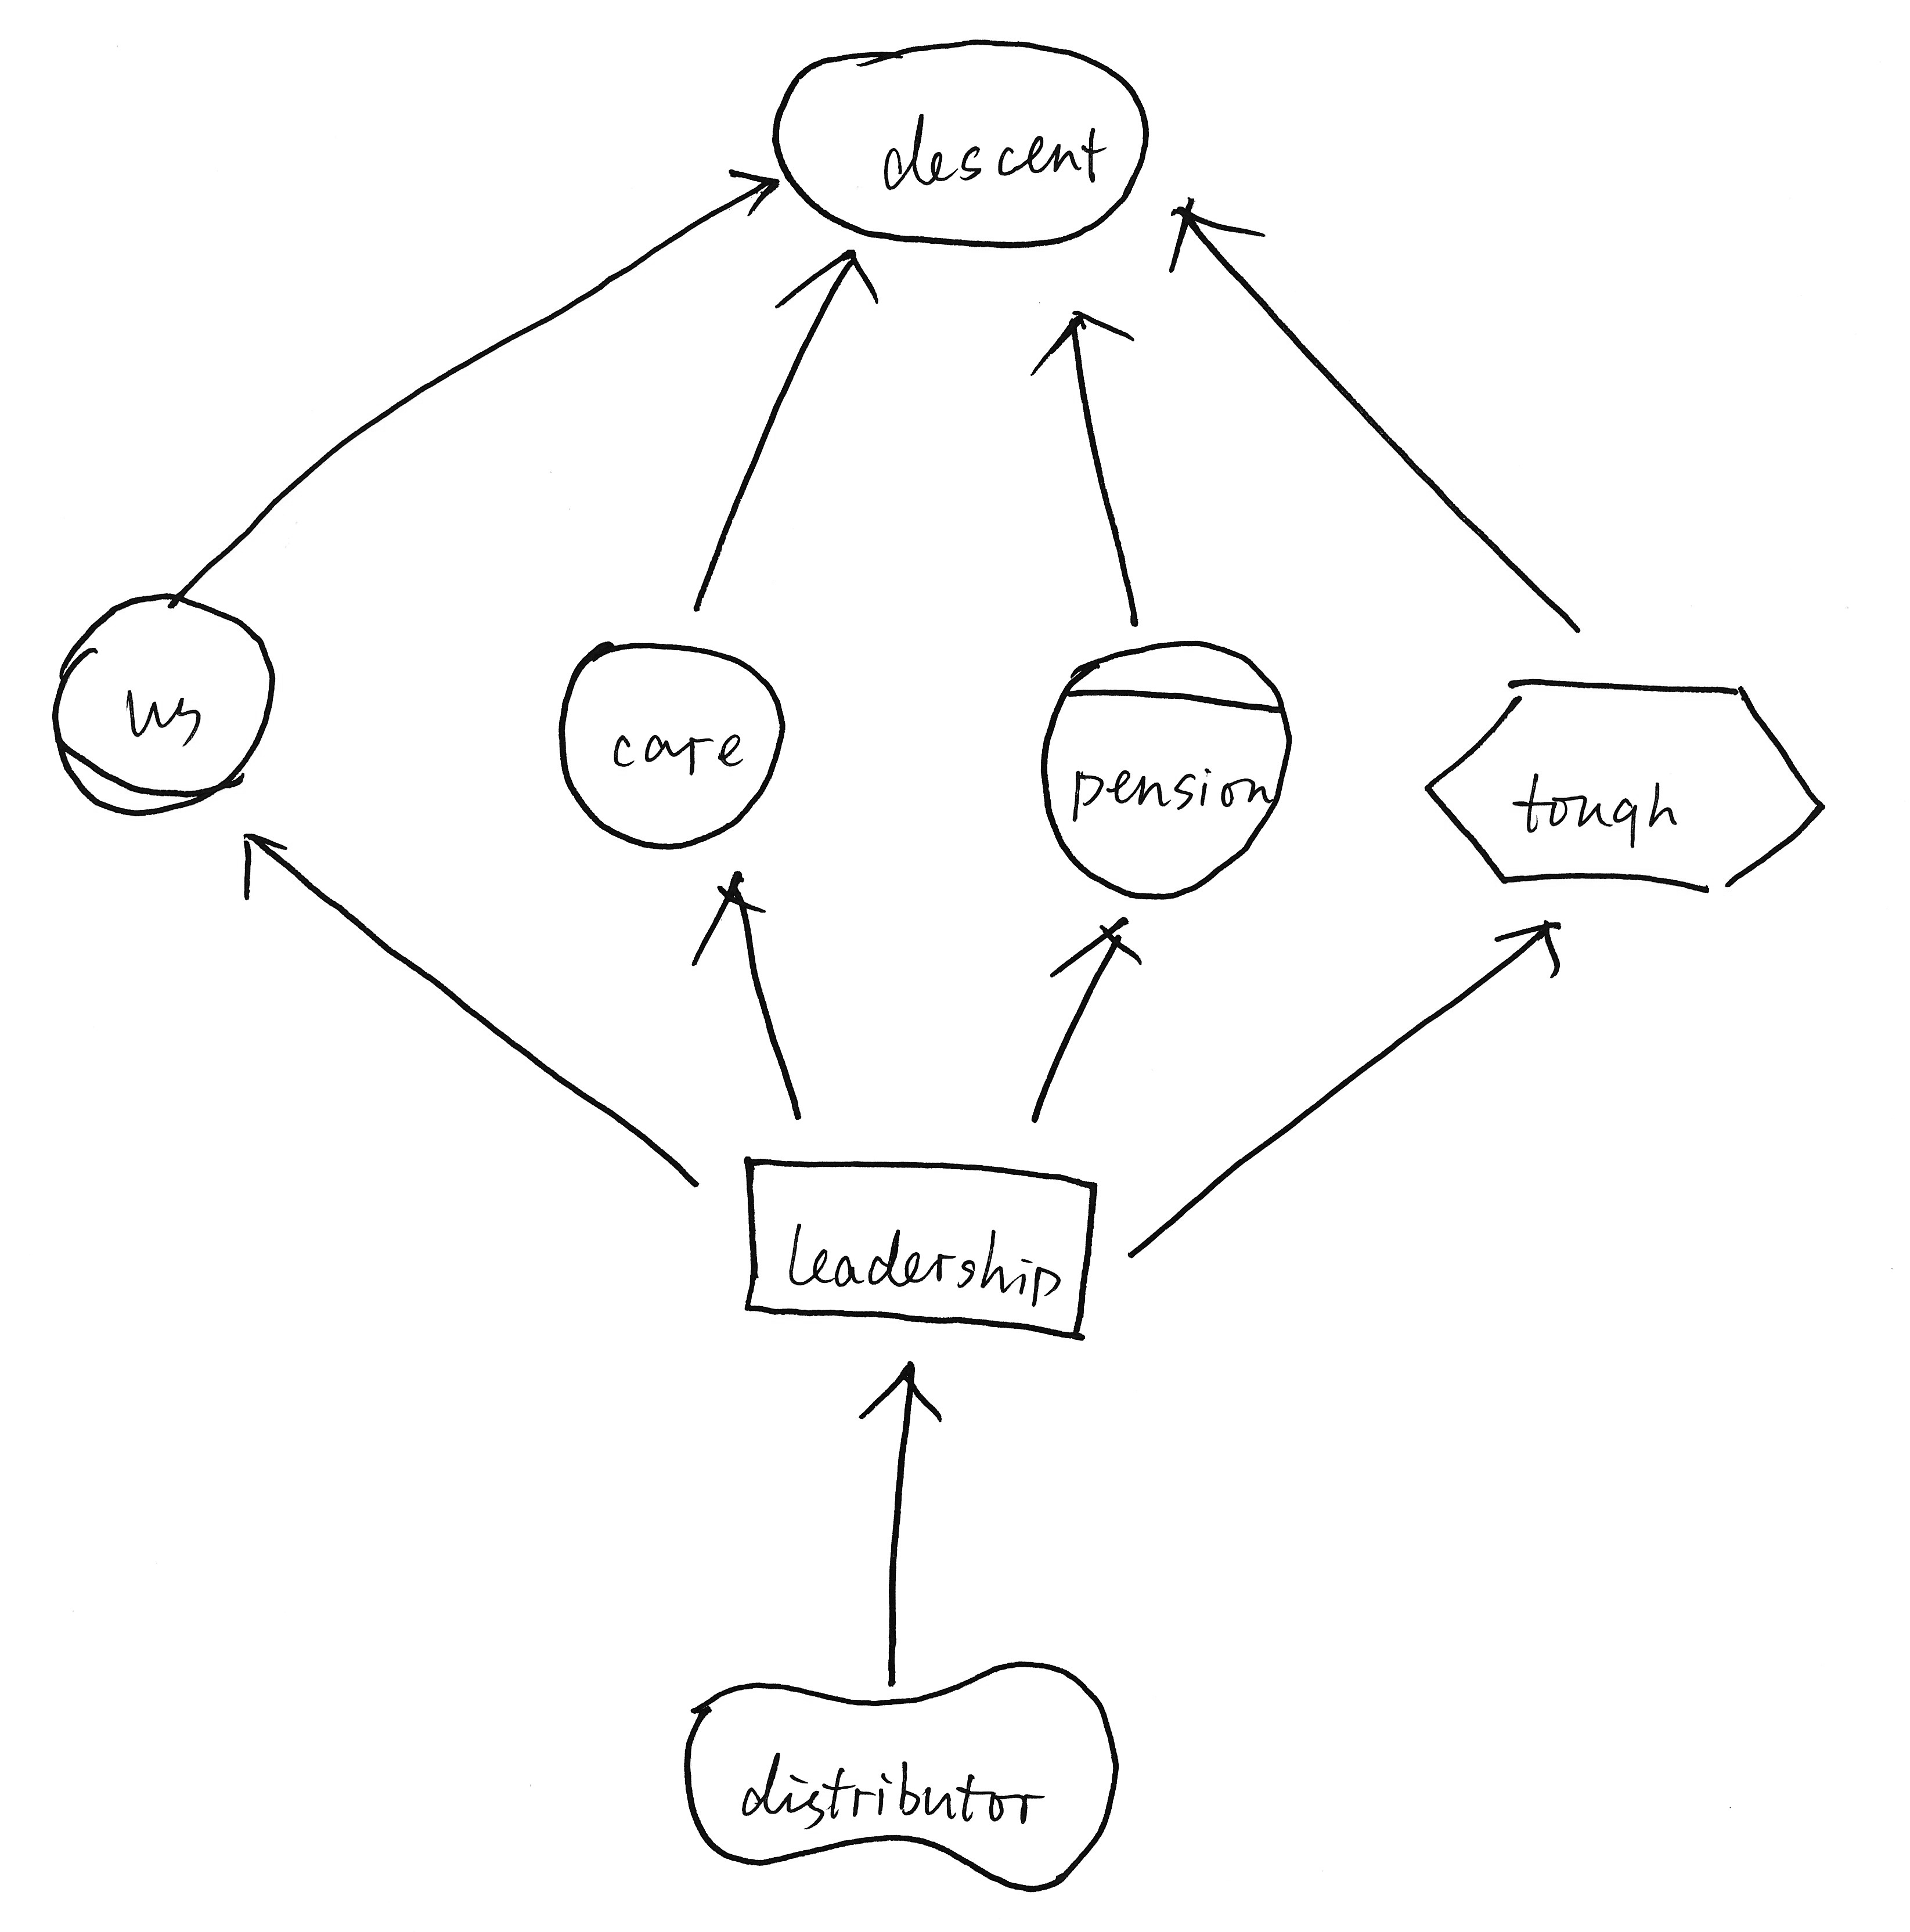actor: (542, 626, 796, 867)
agent: (1020, 624, 1301, 907)
arrow: (756, 21, 1168, 257), (679, 862, 796, 984), (768, 233, 904, 336), (1147, 189, 1277, 288), (1018, 294, 1147, 385), (834, 1346, 958, 1441), (1039, 913, 1172, 997), (1473, 893, 1576, 991), (219, 825, 315, 914), (721, 150, 787, 240)
quality: (668, 1644, 1126, 1902)
resource: (721, 1133, 1111, 1355)
role: (31, 580, 285, 827)
task: (1410, 656, 1838, 907)
